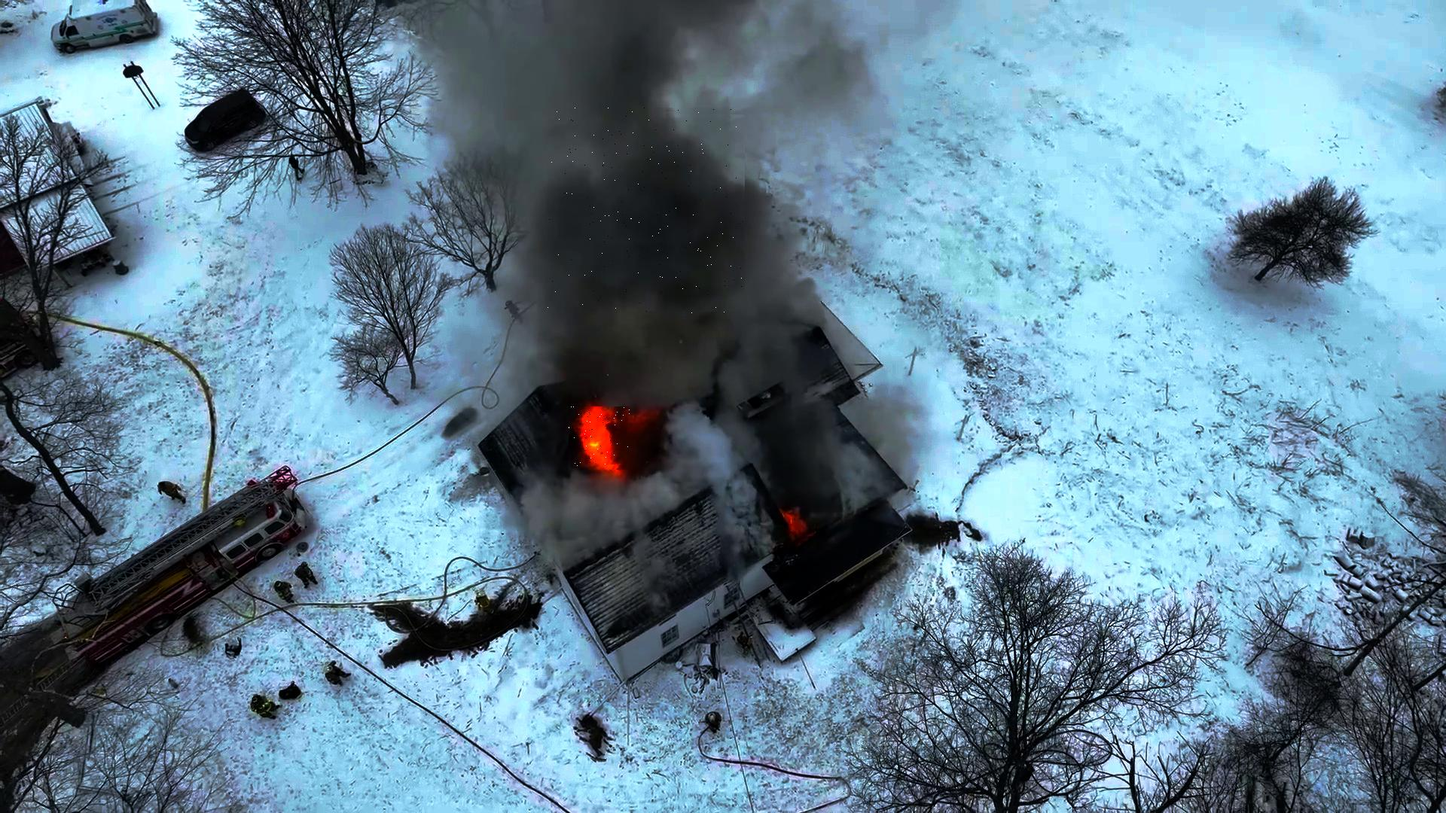fire: (569, 407, 632, 470)
smoke: (548, 108, 745, 314)
